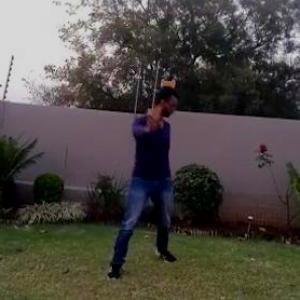takeoff-hand: (142, 101, 166, 135)
